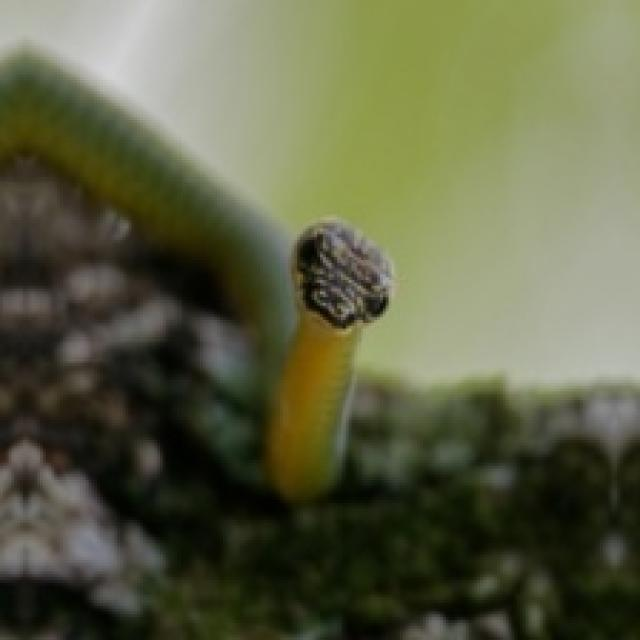paradise tree snake: (0, 54, 389, 637), (0, 54, 389, 500)
